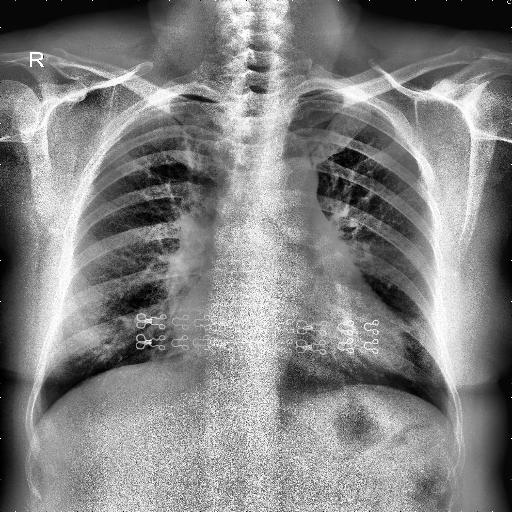0- Aortic enlargement: (259, 156, 320, 212)
10- Pleural effusion: (440, 379, 462, 437)
11- Pleural thickening: (440, 379, 462, 437)
3- Cardiomegaly: (170, 302, 407, 402), (170, 288, 410, 386), (170, 302, 408, 394)
